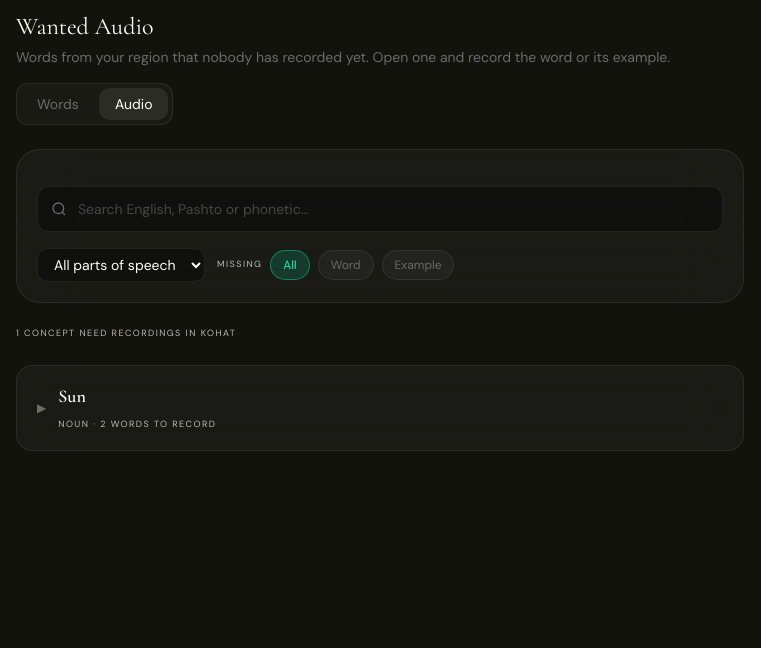
Test: Wanted Audio page › opens a concept to its words with chips linking to the recorder on that slot
The width and height of the screenshot is (761, 648).
Expected: the text "لمر" is not shown
Click the button "▶ Sun noun · 2 words to record": click(74, 424) [37,382,723,434]
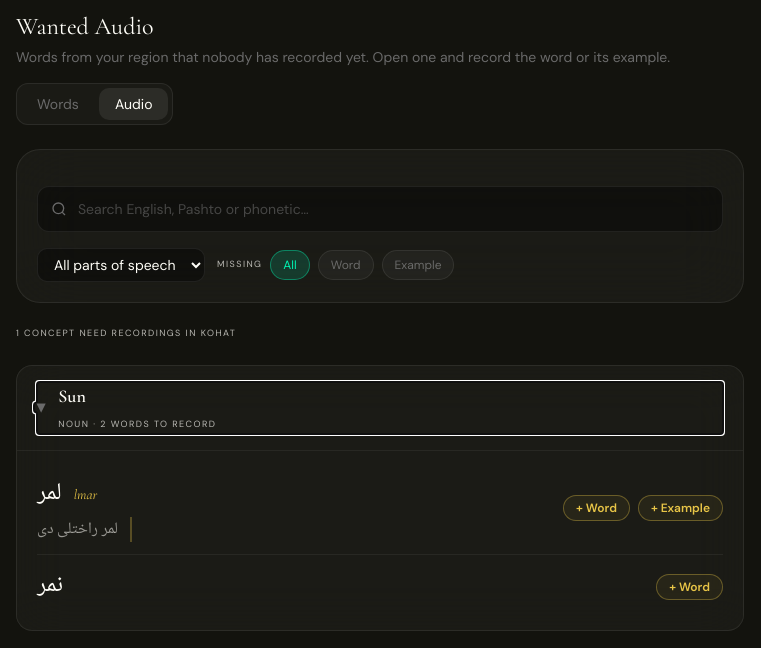
Now the text "لمر راختلی دی" is shown, box [37,517,132,542]
